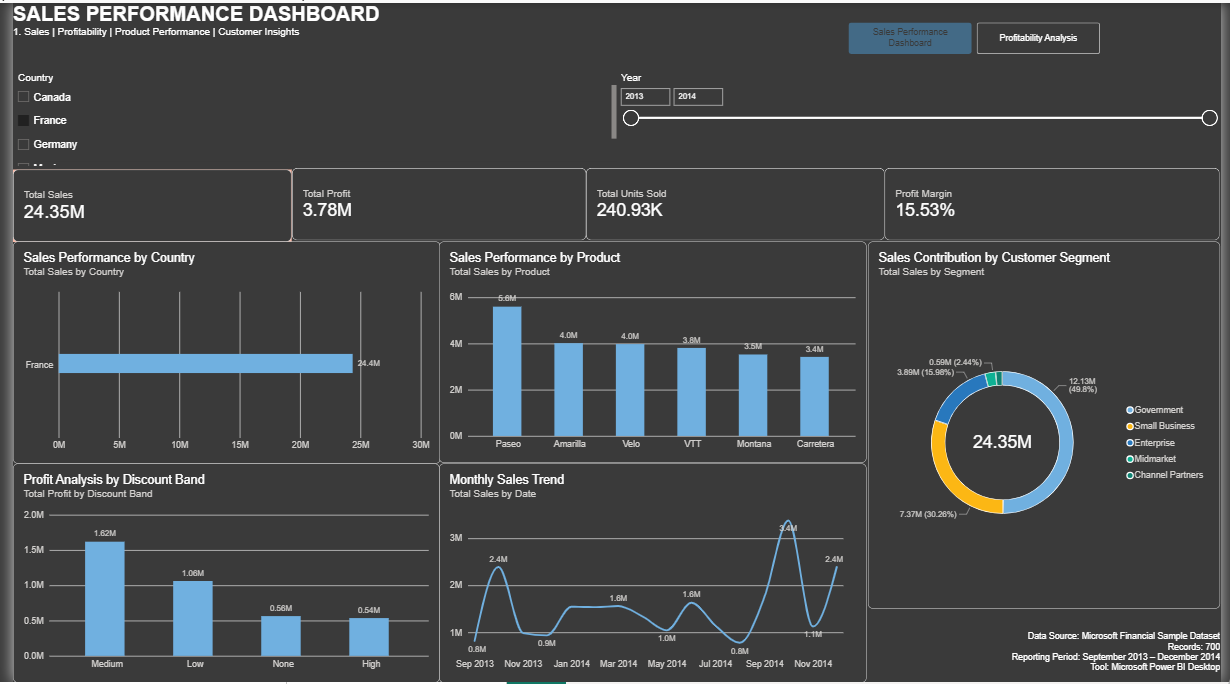

This screenshot's page, from the dashboard's own definition file:
{"tool":"powerbi","page":{"name":"Sales Performance Dashboard","canvas":[1920,1080],"ordinal":0},"visuals":[{"type":"cardVisual","fields":{"Data":["SalesData.Total Sales"]},"box":[0,265,443.3,115],"z":0},{"type":"cardVisual","fields":{"Data":["SalesData.Total Profit"]},"box":[443.3,263.3,468.3,115],"z":1},{"type":"cardVisual","fields":{"Data":["SalesData.Total Units Sold"]},"box":[911.7,263.3,475,115],"z":2},{"type":"cardVisual","fields":{"Data":["SalesData.Profit Margin"]},"box":[1386.7,263.3,533.3,115],"z":4},{"type":"clusteredBarChart","title":"Sales Performance by Country","fields":{"Category":["SalesData.Country"],"Y":["SalesData.Total Sales"]},"box":[0,378.3,680,353.3],"z":5},{"type":"clusteredColumnChart","title":"Sales Performance by Product","fields":{"Category":["SalesData.Product"],"Y":["SalesData.Total Sales"]},"box":[678.3,380,680,351.7],"z":6},{"type":"donutChart","title":"Sales Contribution by Customer Segment","fields":{"Category":["SalesData.Segment"],"Y":["SalesData.Total Sales"]},"box":[1360,380,560,584],"z":7},{"type":"lineChart","title":"Monthly Sales Trend","fields":{"Category":["SalesData.Date"],"Y":["SalesData.Total Sales"]},"box":[678.3,731.7,680,348.3],"z":8},{"type":"clusteredColumnChart","title":"Profit Analysis by Discount Band","fields":{"Category":["SalesData.Discount Band"],"Y":["SalesData.Total Profit"]},"box":[0,731.7,678.3,348.3],"z":9},{"type":"slicer","fields":{"Values":["SalesData.Country"]},"box":[0,110,960,148.3],"z":10},{"type":"slicer","fields":{"Values":["SalesData.Year"]},"box":[960,110,960,148],"z":11},{"type":"textbox","box":[0,0,831.7,110],"z":12},{"type":"textbox","box":[1360,1000,560,80],"z":13},{"type":"pageNavigator","box":[1328.3,30,400,50],"z":14}]}

Visuals, with their boxes in screenshot pixels (x1, y1, x2, y2), scaled from the page's 1920x1080 canvas onto the 1230x684 screenshot:
cardVisual - SalesData.Total Sales: rect(0, 168, 284, 241)
cardVisual - SalesData.Total Profit: rect(284, 167, 584, 240)
cardVisual - SalesData.Total Units Sold: rect(584, 167, 888, 240)
cardVisual - SalesData.Profit Margin: rect(888, 167, 1229, 240)
"Sales Performance by Country" clusteredBarChart: rect(0, 240, 436, 463)
"Sales Performance by Product" clusteredColumnChart: rect(435, 241, 870, 463)
"Sales Contribution by Customer Segment" donutChart: rect(871, 241, 1229, 611)
"Monthly Sales Trend" lineChart: rect(435, 463, 870, 683)
"Profit Analysis by Discount Band" clusteredColumnChart: rect(0, 463, 435, 683)
slicer - SalesData.Country: rect(0, 70, 615, 164)
slicer - SalesData.Year: rect(615, 70, 1229, 163)
textbox: rect(0, 0, 533, 70)
textbox: rect(871, 633, 1229, 683)
pageNavigator: rect(851, 19, 1107, 51)
